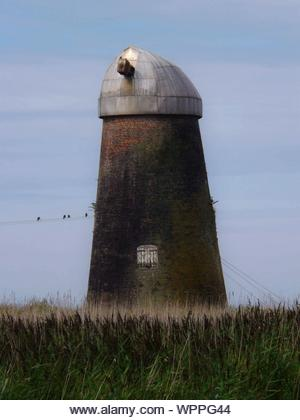faulty: (92, 40, 210, 162)
